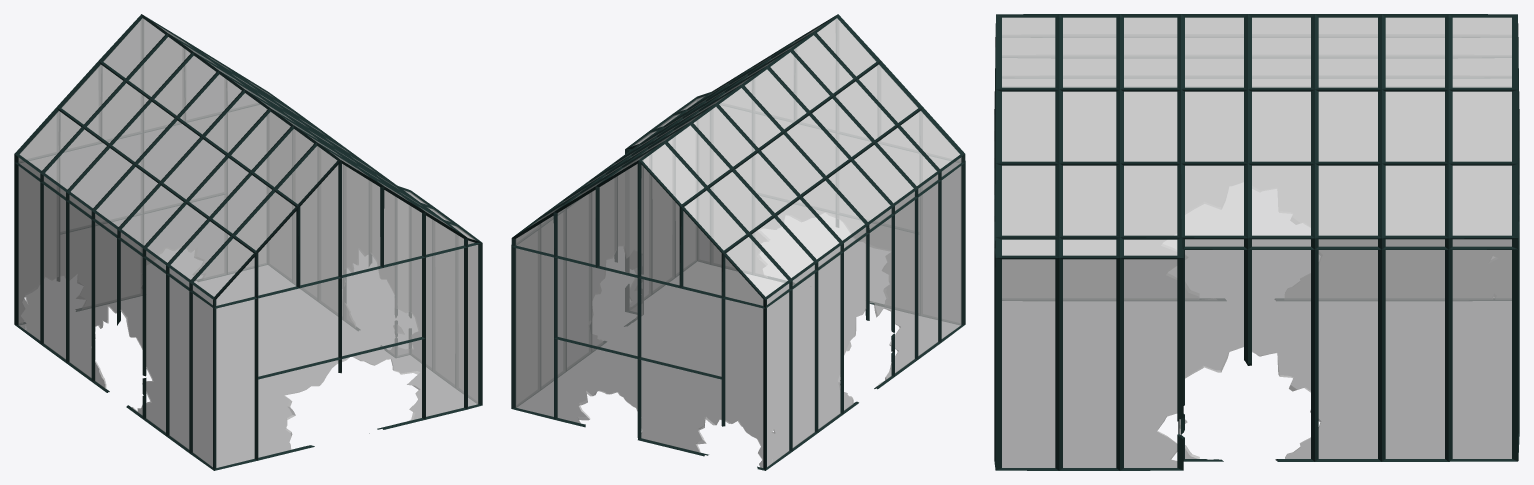
File: greenhouse.fbx
3 views of the same model, side by side, from view 1: azimuth 30°, elevation 25°; view 2: azimuth 150°, elevation 25°; view 3: azimuth 270°, elevation 25° (orthographic). The views are drawn at different scales.
Visible parts, largest first — view 1: Cube.015; view 2: Cube.015; view 3: Cube.015.
Part boxes in pixels (x1=…): Cube.015: x1=14, y1=14, x2=482, y2=470; Cube.015: x1=511, y1=14, x2=965, y2=470; Cube.015: x1=994, y1=14, x2=1519, y2=470.
Size of the model in its own units: 331 by 329 by 427.
